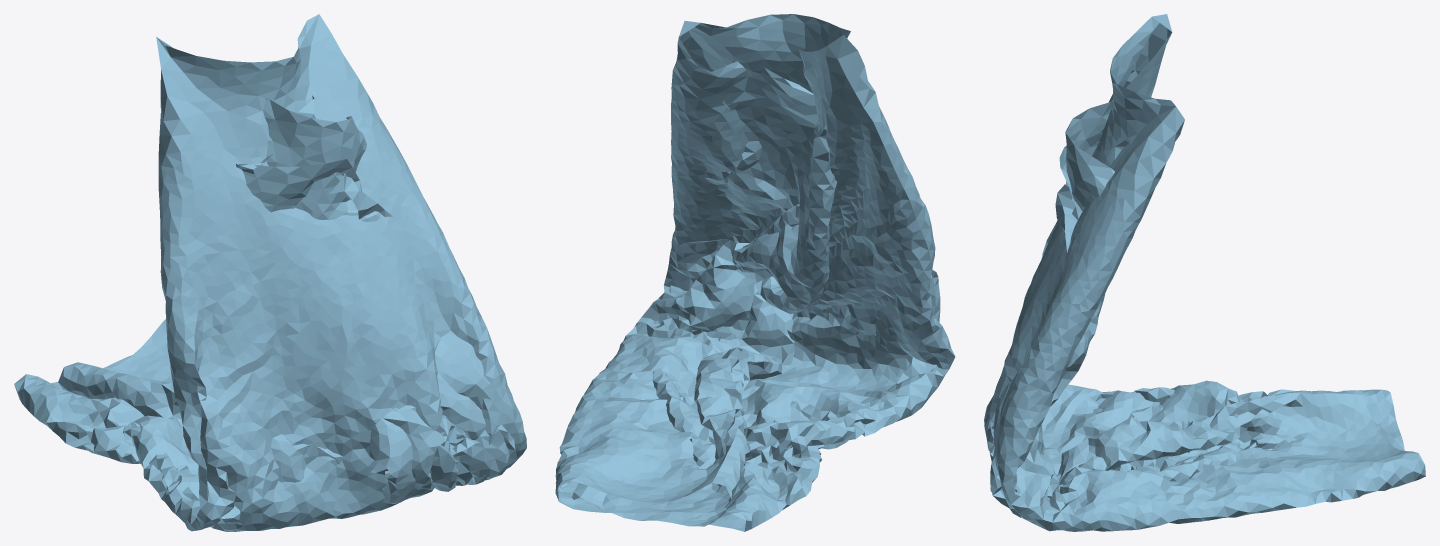
File: frame_13.glb
3 renders of one model, left to right at view 1: azimuth 30°, elevation 25°; view 2: azimuth 150°, elevation 25°; view 3: azimuth 270°, elevation 25°, orthographic. The views are drawn at different scales.
Visible parts, largest first — view 1: frame_13.obj; view 2: frame_13.obj; view 3: frame_13.obj.
Boxes of the visible parts, bbox=[...] form: frame_13.obj: bbox=[14, 14, 526, 531]; frame_13.obj: bbox=[555, 14, 955, 531]; frame_13.obj: bbox=[984, 14, 1425, 531].
Bounding box in the file's own units: 0.8302 × 1.09 × 1.08.
